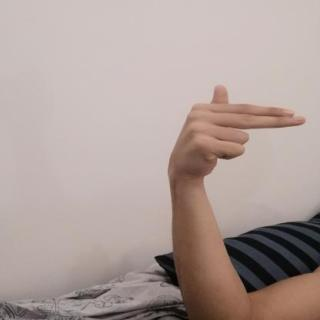GHAYN: (161, 79, 314, 182)
